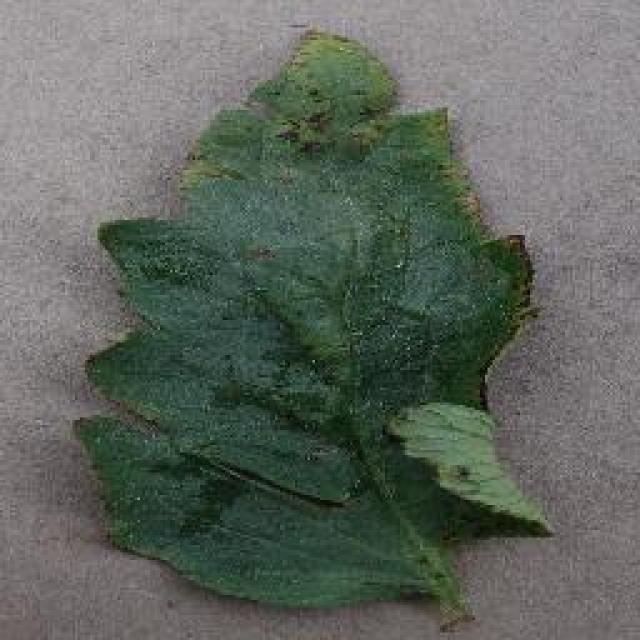bacterial spot: (72, 28, 554, 627)
